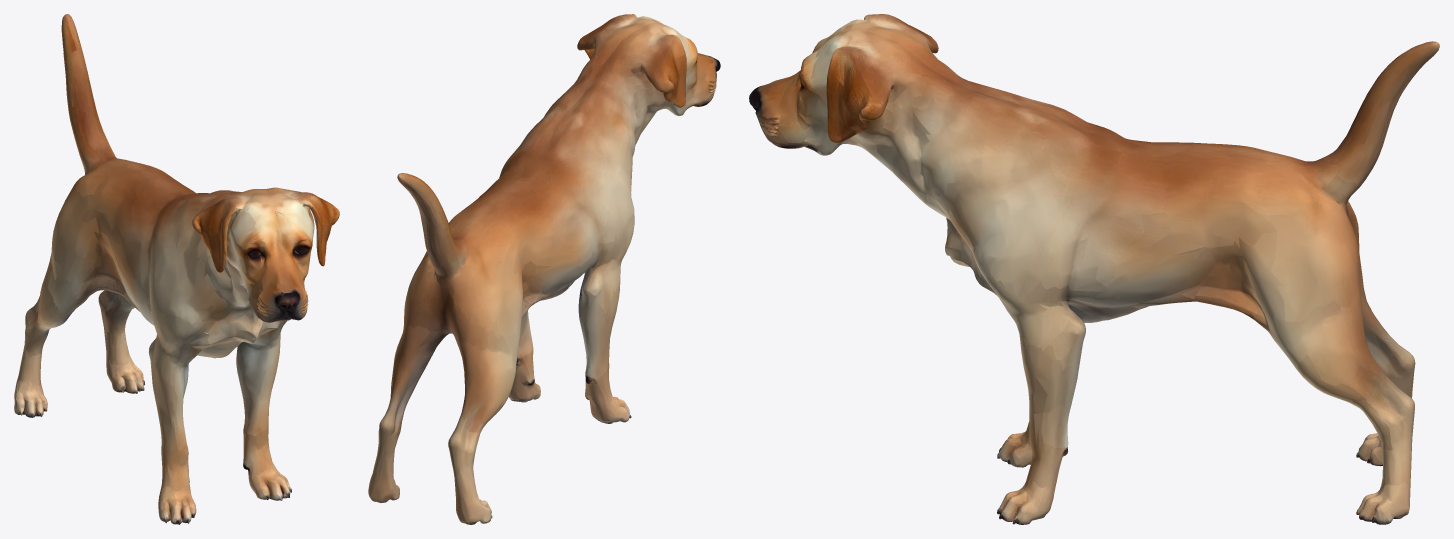
3 views of the same model, side by side, from view 1: azimuth 30°, elevation 25°; view 2: azimuth 150°, elevation 25°; view 3: azimuth 270°, elevation 25° (orthographic). The views are drawn at different scales.
Bounding box in the file's own units: 0.5307 × 1.37 × 1.9.
1 material, 1 textured.
